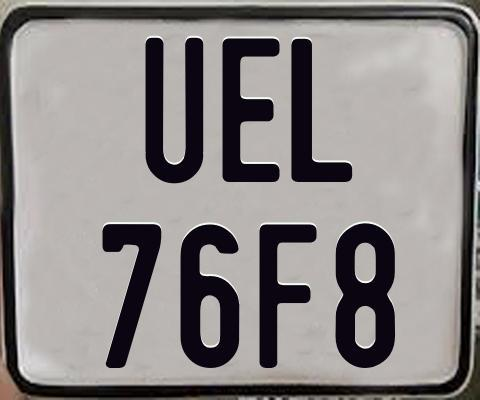6: (179, 222, 240, 370)
7: (101, 222, 161, 367)
8: (334, 220, 394, 365)
E: (221, 35, 284, 179)
F: (256, 222, 315, 371)
L: (290, 37, 352, 181)
U: (145, 38, 208, 187)
